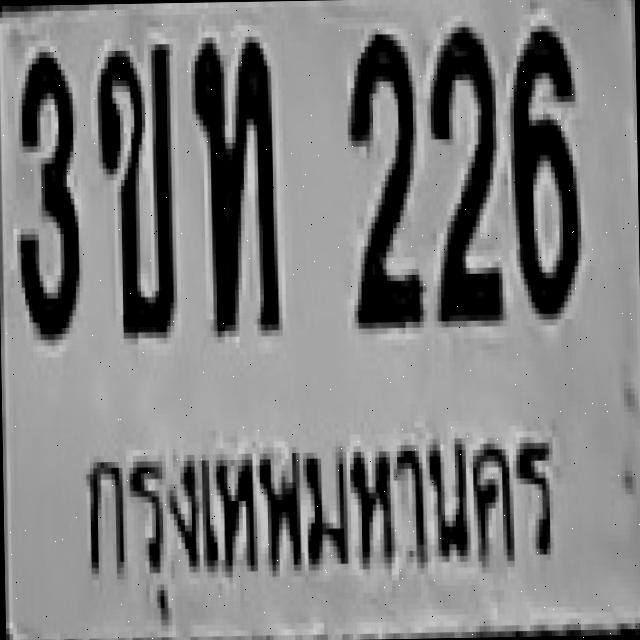11KhorKhai: (92, 41, 174, 336)
2: (425, 20, 499, 321), (344, 31, 418, 326)
3: (11, 46, 78, 334)
32ThorThaHan: (190, 30, 278, 331)
6: (508, 21, 578, 316)
Bangkok: (70, 419, 567, 622)
